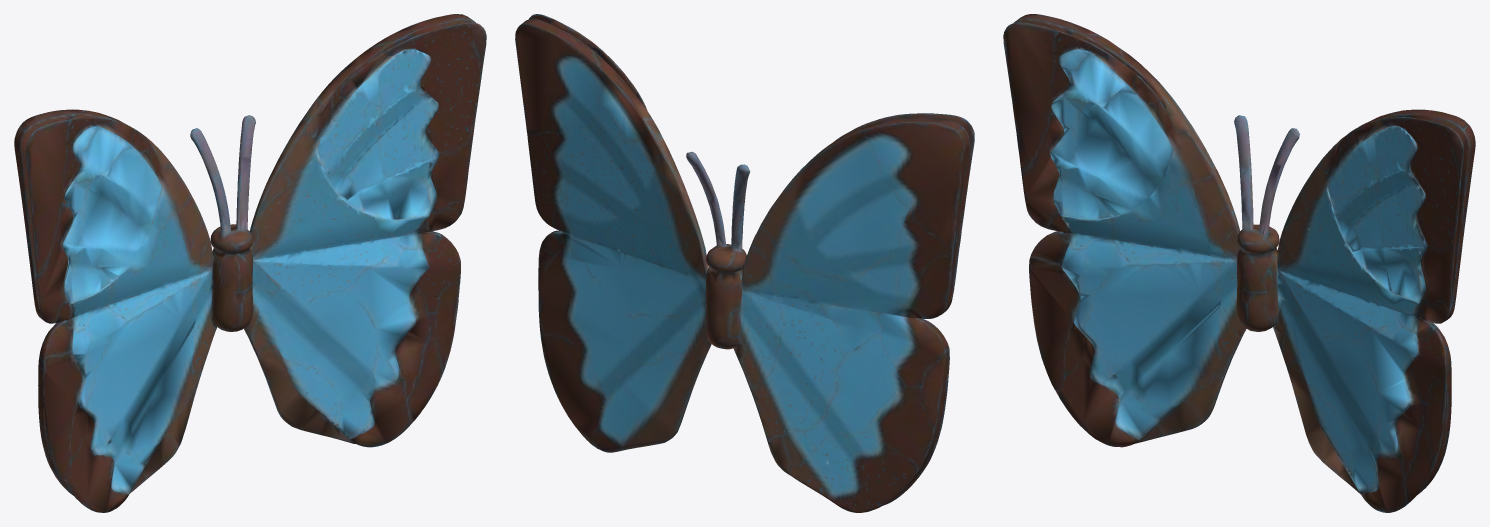
File: bluebutterfly.glb
The picture shows the model from 3 angles, left to right: view 1: azimuth 30°, elevation 25°; view 2: azimuth 150°, elevation 25°; view 3: azimuth 330°, elevation 25°; orthographic projection. The views are drawn at different scales.
Visible parts, largest first — view 1: node_0; view 2: node_0; view 3: node_0.
Boxes of the visible parts, left/top/right/bottom form: node_0: left=14, top=14, right=486, bottom=512; node_0: left=515, top=14, right=974, bottom=512; node_0: left=1003, top=14, right=1475, bottom=512.
Bounding box in the file's own units: 0.9298 × 0.7963 × 0.127.
Materials: 1 (1 with a texture image).
